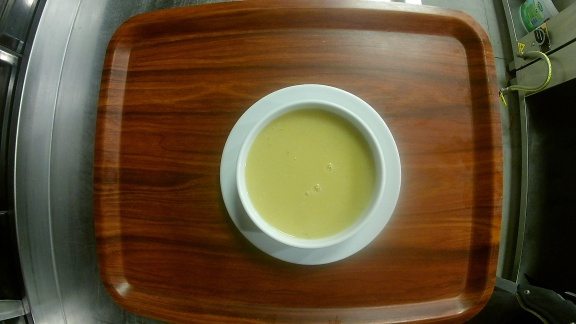mercimek: (218, 82, 403, 266)
